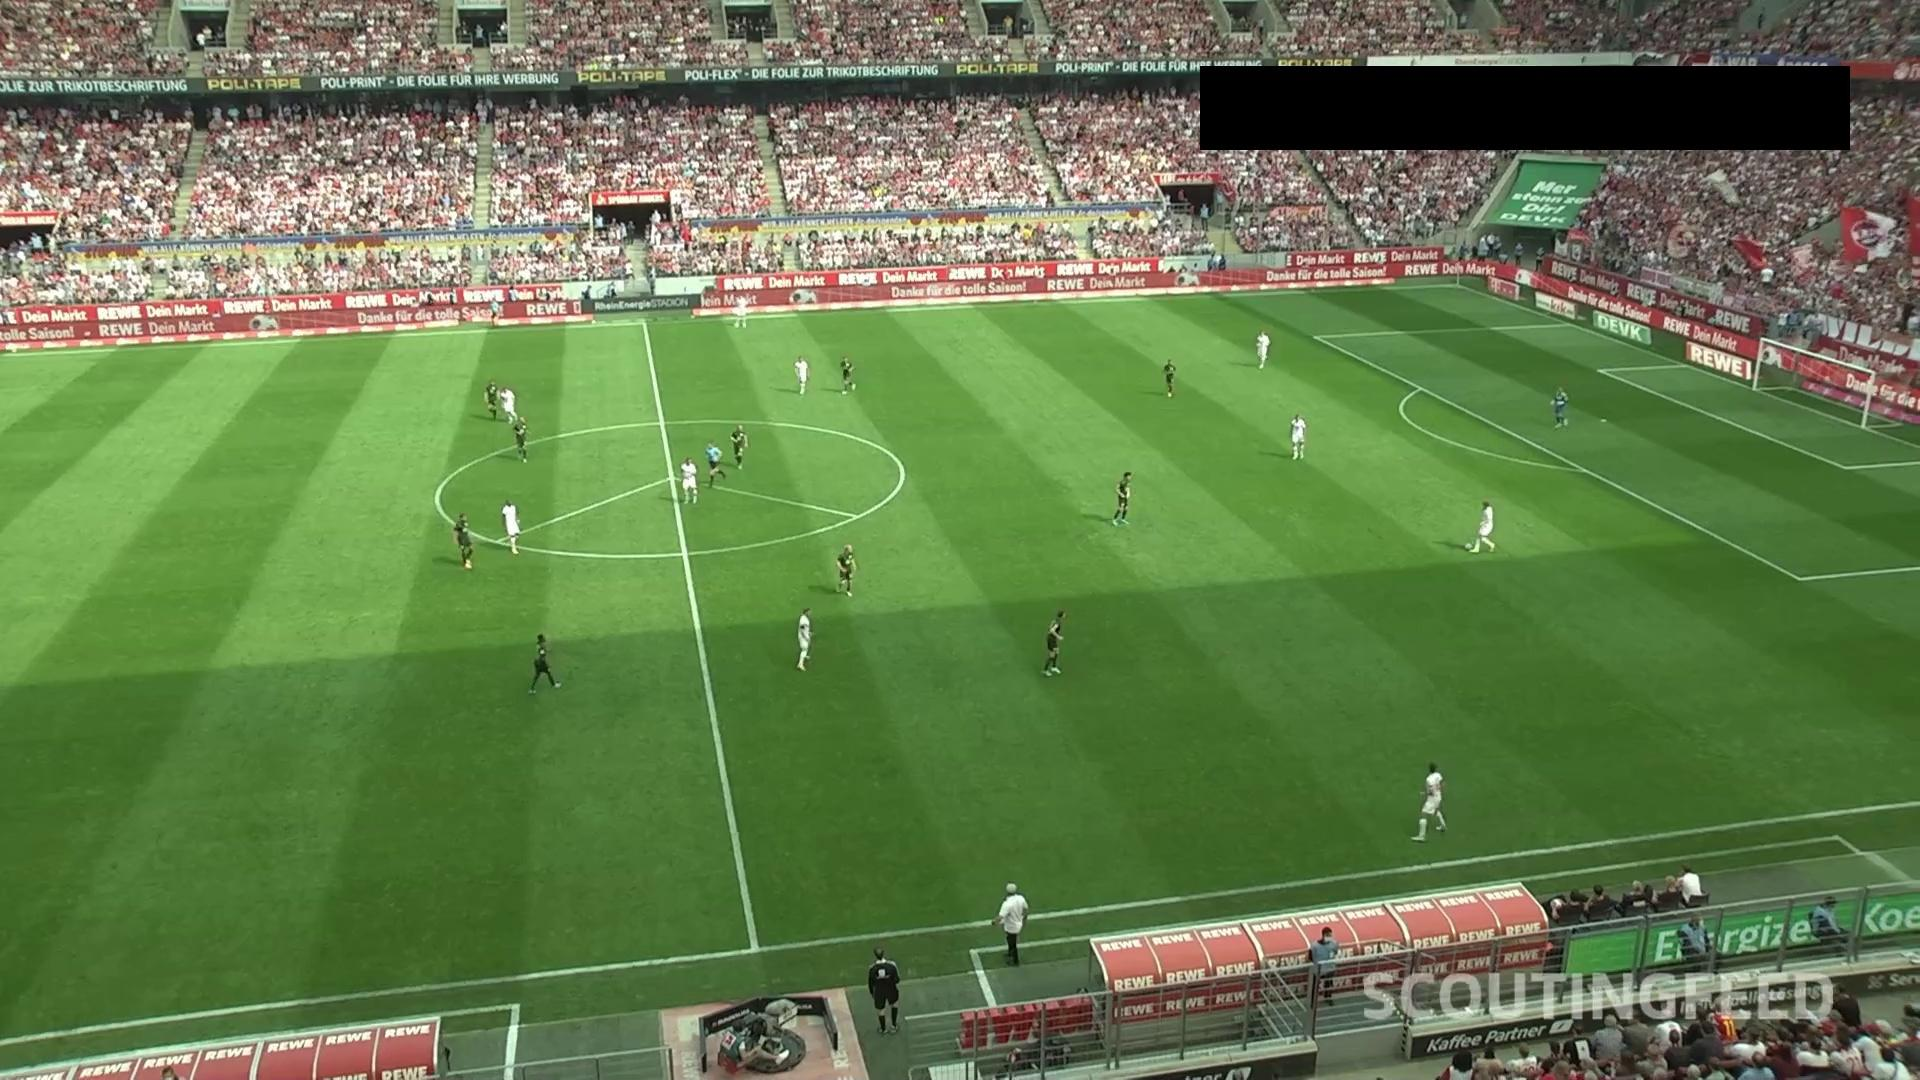Location-of-ball: (1457, 535, 1480, 560)
